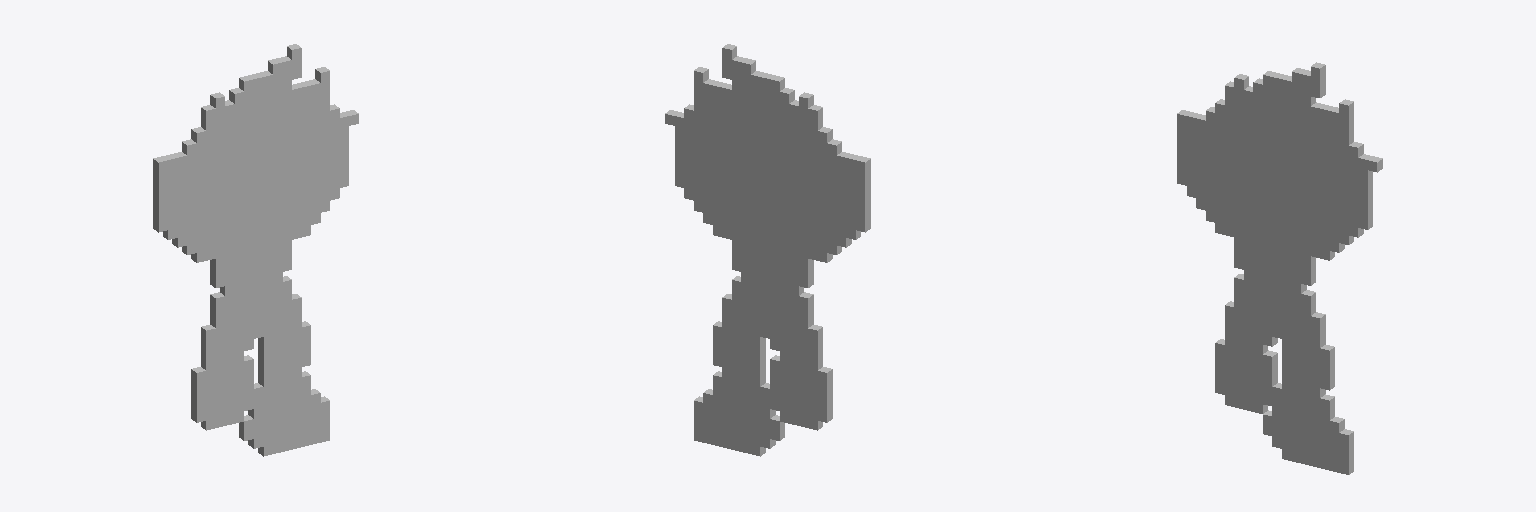
Rendered from RunUpShoot3.obj.
The picture shows the model from 3 angles: view 1: azimuth 30°, elevation 25°; view 2: azimuth 150°, elevation 25°; view 3: azimuth 330°, elevation 25°; orthographic projection.
Parts seen in each view (by area): view 1: RunUpShoot3; view 2: RunUpShoot3; view 3: RunUpShoot3.
Part boxes in pixels (x1,y1,x2,y2): RunUpShoot3: (153,44,358,456); RunUpShoot3: (665,44,870,456); RunUpShoot3: (1177,62,1382,474).
Bounding box in the file's own units: 2.1 × 4 × 0.1.